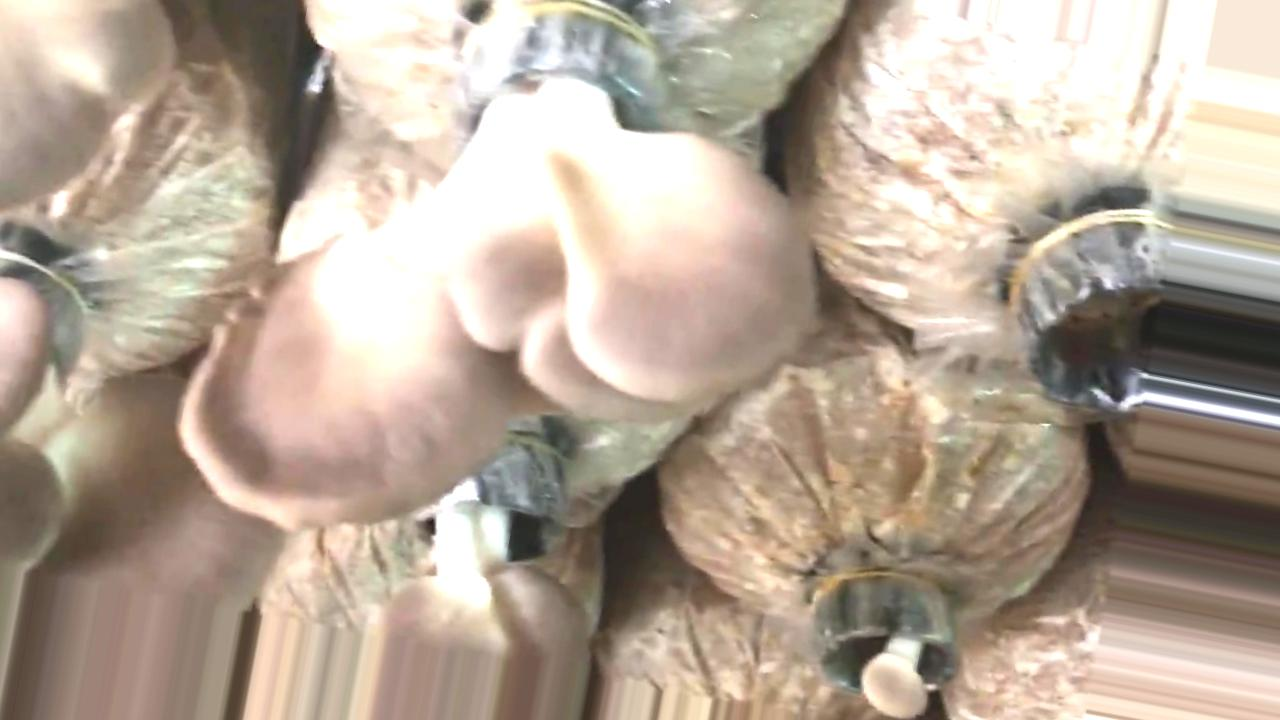nam: (181, 1, 813, 520), (1, 237, 284, 716), (354, 427, 594, 720), (1, 2, 173, 213), (814, 570, 957, 713)
